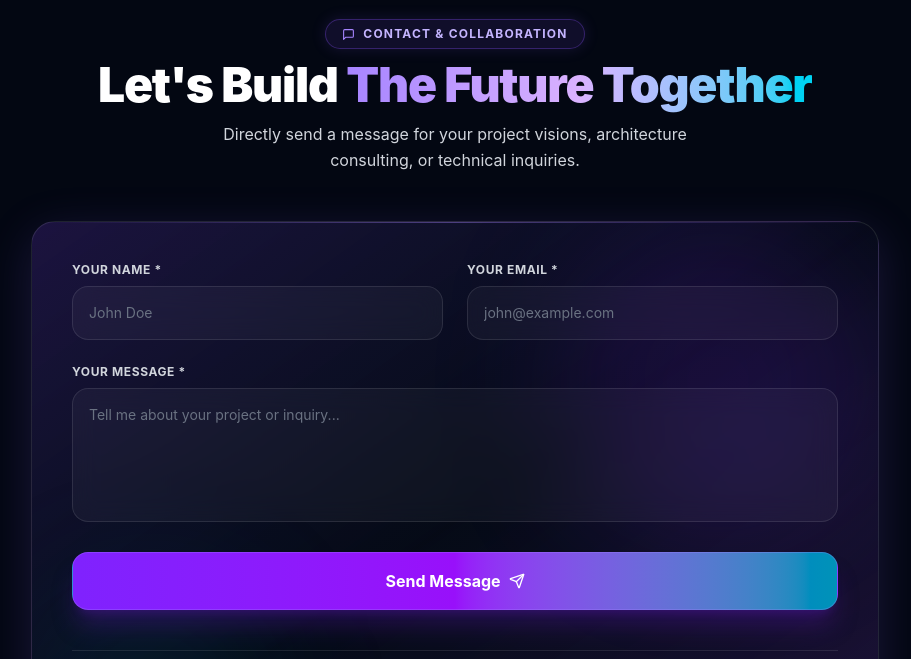
Scenario: V4Contact Component - Contact Form & i18n Integration › should submit form data to /api/contact and show success state
Type "Alex Turner" into the field with placeholder "John Doe" at (258, 313), box top-left (72, 286), bottom-right (443, 340)
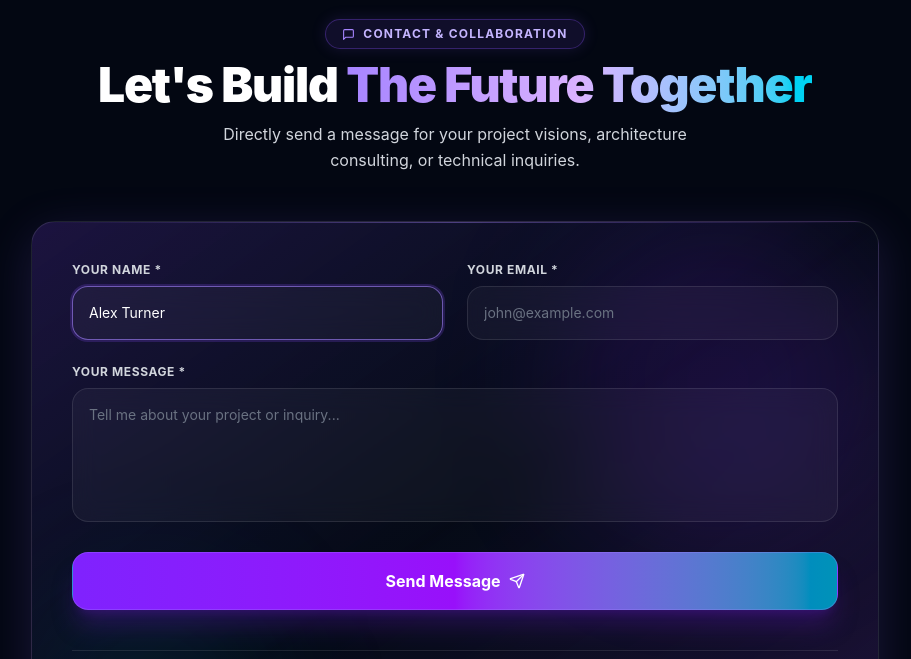
Type "alex@turner.com" into the field with placeholder "john@example.com" at (652, 313), box top-left (467, 286), bottom-right (838, 340)
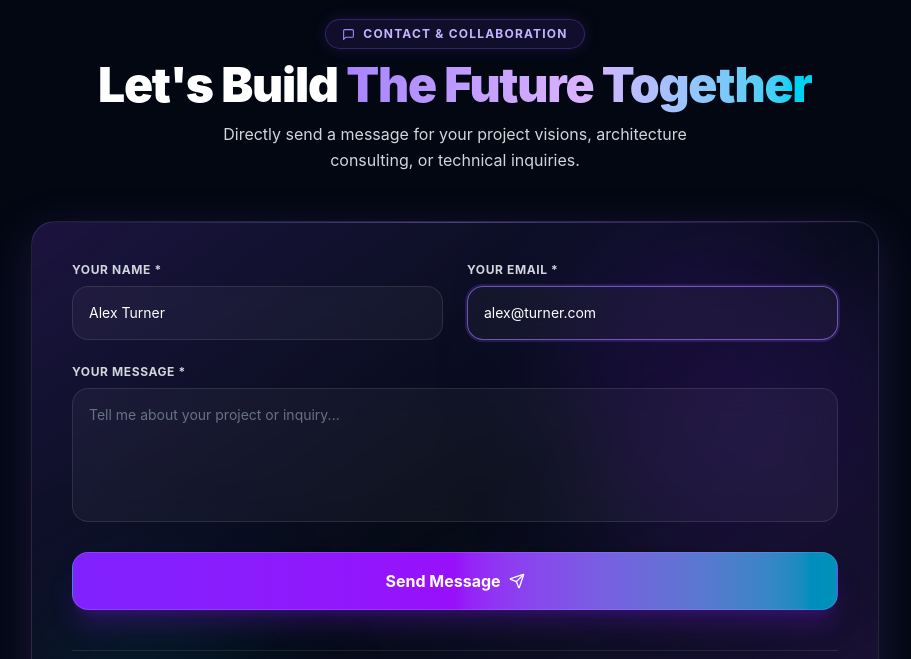
Type "Need architecture review for edge workers." into the text box with placeholder "Tell me about your project or inquiry..." at (455, 455), box top-left (72, 388), bottom-right (838, 522)
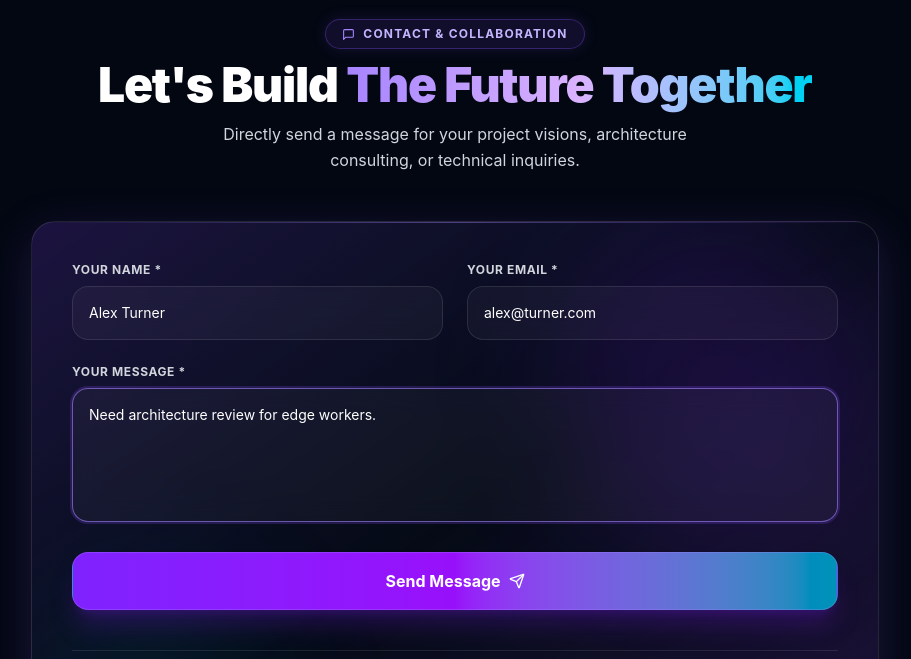
Click the button "Send Message" at (455, 581), box top-left (72, 552), bottom-right (838, 610)
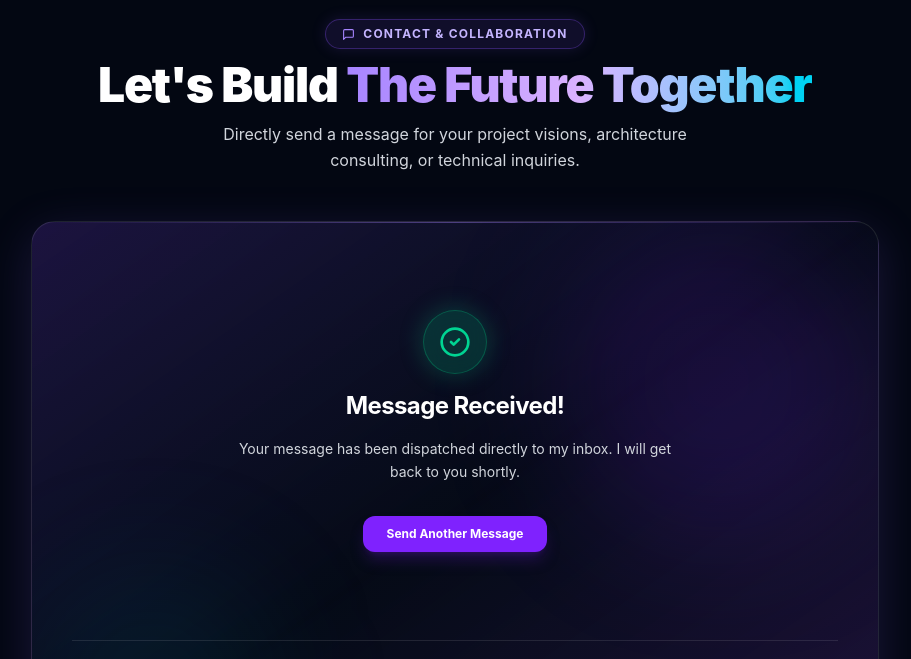
expect the heading "Message Received!" is shown: met, box top-left (346, 391), bottom-right (564, 420)
